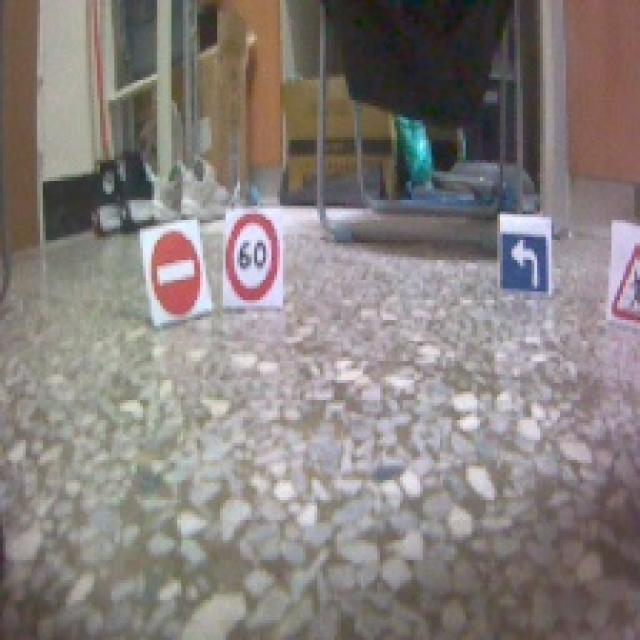DoNotEnterSign: (147, 228, 206, 316)
